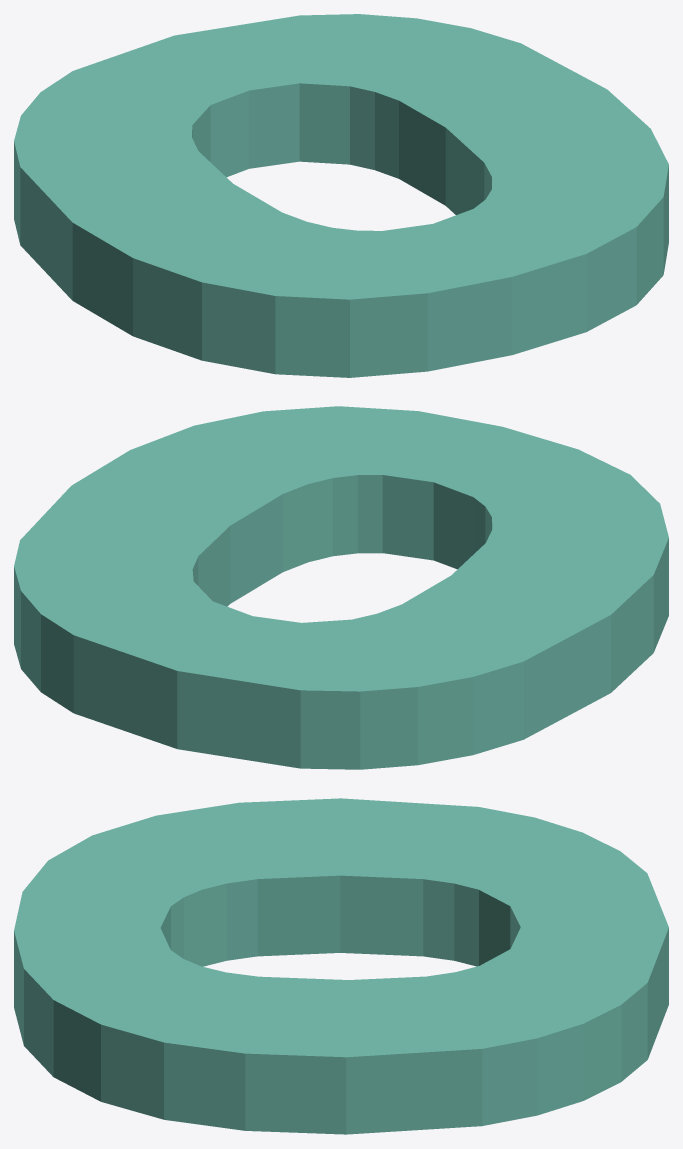
The model's file is vocal_o.glb.
3 views of the same model, one above another, from view 1: azimuth 30°, elevation 25°; view 2: azimuth 150°, elevation 25°; view 3: azimuth 270°, elevation 25° (orthographic).
Parts seen in each view (by area): view 1: Mesh_Mesh_head_geo.001_lambert2SG.001; view 2: Mesh_Mesh_head_geo.001_lambert2SG.001; view 3: Mesh_Mesh_head_geo.001_lambert2SG.001.
Boxes of the visible parts, bbox=[...] form: Mesh_Mesh_head_geo.001_lambert2SG.001: bbox=[14, 14, 668, 377]; Mesh_Mesh_head_geo.001_lambert2SG.001: bbox=[14, 406, 668, 769]; Mesh_Mesh_head_geo.001_lambert2SG.001: bbox=[14, 798, 668, 1134].
Size of the model in its own units: 0.0287 by 0.004 by 0.0307.
